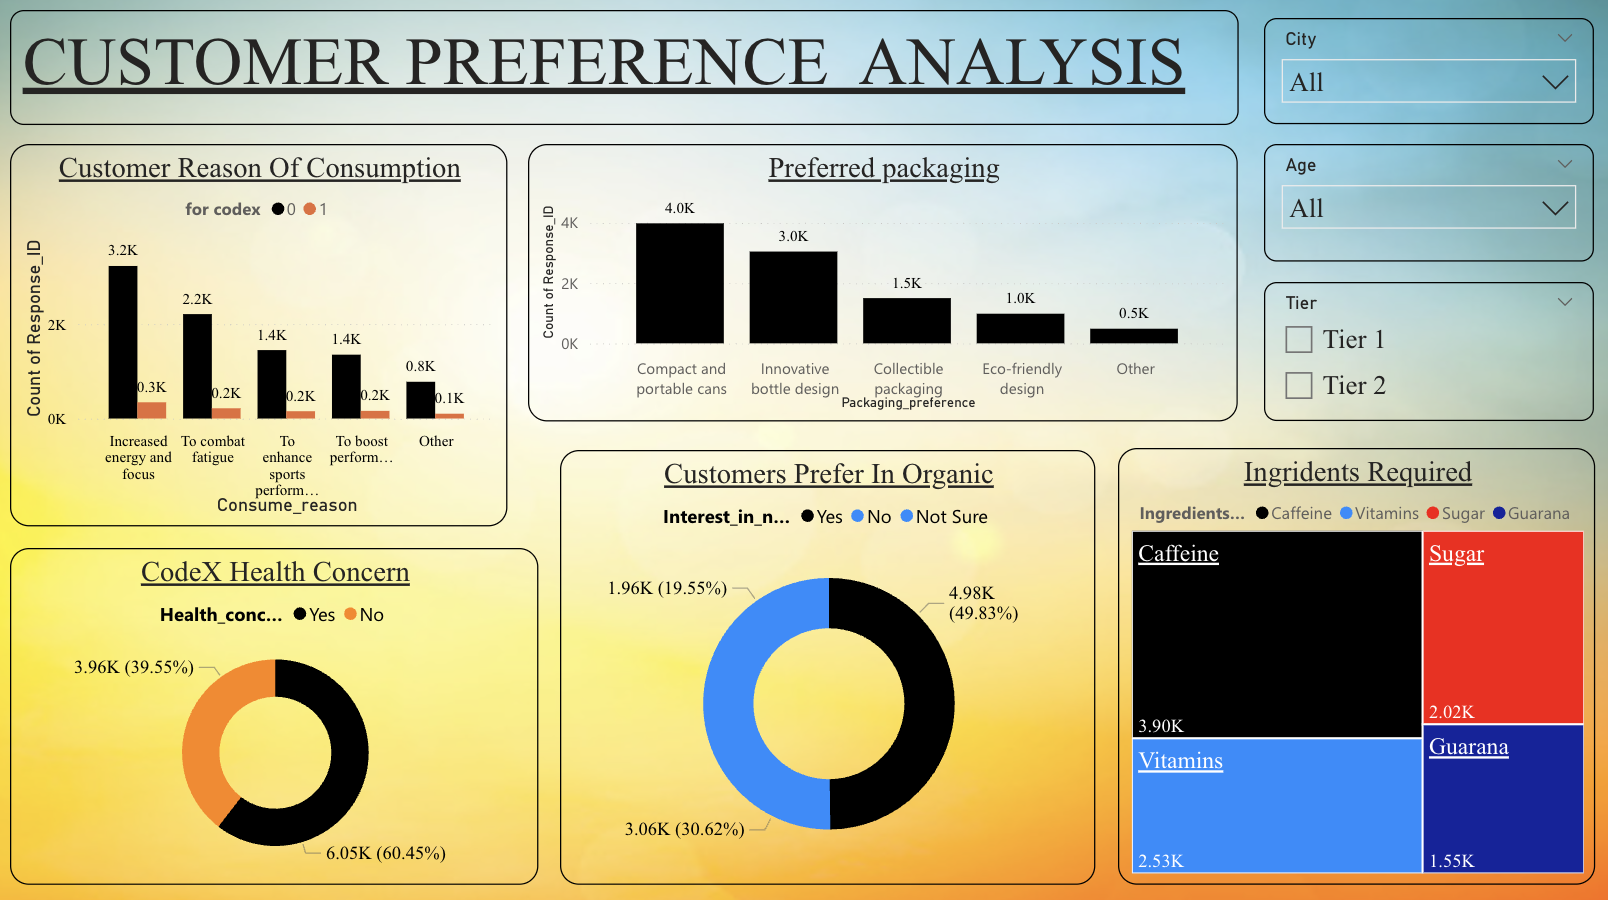

The page's visual inventory and layout, read from the dashboard file:
{"tool":"powerbi","page":{"name":"customer preference","canvas":[1280,720],"ordinal":2},"visuals":[{"type":"textbox","box":[11.3,11.3,971.8,90.8],"z":0},{"type":"slicer","fields":{"Values":["dim_cities.City"]},"box":[1003.7,17.3,261.2,84.2],"z":1000},{"type":"slicer","fields":{"Values":["dim_repondents.Age"]},"box":[1003.7,116.6,261.2,92.8],"z":2000},{"type":"slicer","fields":{"Values":["dim_cities.Tier"]},"box":[1003.7,226.6,261.2,110.1],"z":3000},{"type":"clusteredColumnChart","title":"Customer Reason Of Consumption ","fields":{"Category":["fact_survey_responses.Consume_reason"],"Y":["CountNonNull(fact_survey_responses.Response_ID)"],"Series":["fact_survey_responses.for codex"]},"box":[11.3,117.2,393.3,302.5],"z":4000},{"type":"treemap","title":"Ingridents Required","fields":{"Group":["fact_survey_responses.Ingredients_expected"],"Values":["CountNonNull(fact_survey_responses.Response_ID)"]},"box":[887.2,358.3,377.7,345.4],"z":5000},{"type":"donutChart","title":"CodeX Health Concern ","fields":{"Y":["CountNonNull(fact_survey_responses.Response_ID)"],"Category":["fact_survey_responses.Health_concerns"]},"box":[11.3,436.8,417.8,266.6],"z":6000},{"type":"donutChart","title":"Customers Prefer In Organic","fields":{"Y":["CountNonNull(fact_survey_responses.Response_ID)"],"Category":["fact_survey_responses.Interest_in_natural_or_organic"]},"box":[446.2,359.2,423.5,344.1],"z":7000},{"type":"clusteredColumnChart","title":"Preferred packaging ","fields":{"Category":["fact_survey_responses.Packaging_preference"],"Y":["CountNonNull(fact_survey_responses.Response_ID)"]},"box":[421.6,117.2,561.5,219.3],"z":8000}]}

Visuals, with their boxes in screenshot pixels (x1, y1, x2, y2), scaled from the page's 1280x720 canvas onto the 1608x900 screenshot:
textbox: 14,14,1235,128
slicer - dim_cities.City: 1261,22,1589,127
slicer - dim_repondents.Age: 1261,146,1589,262
slicer - dim_cities.Tier: 1261,283,1589,421
"Customer Reason Of Consumption " clusteredColumnChart: 14,146,508,525
"Ingridents Required" treemap: 1115,448,1589,880
"CodeX Health Concern " donutChart: 14,546,539,879
"Customers Prefer In Organic" donutChart: 561,449,1093,879
"Preferred packaging " clusteredColumnChart: 530,146,1235,421
